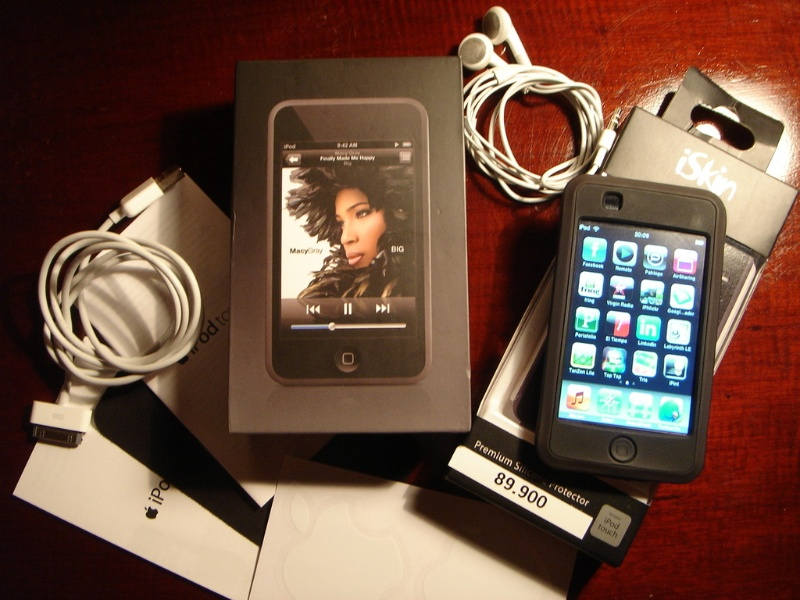Mobile Phone: (254, 90, 448, 393), (559, 157, 723, 484)
